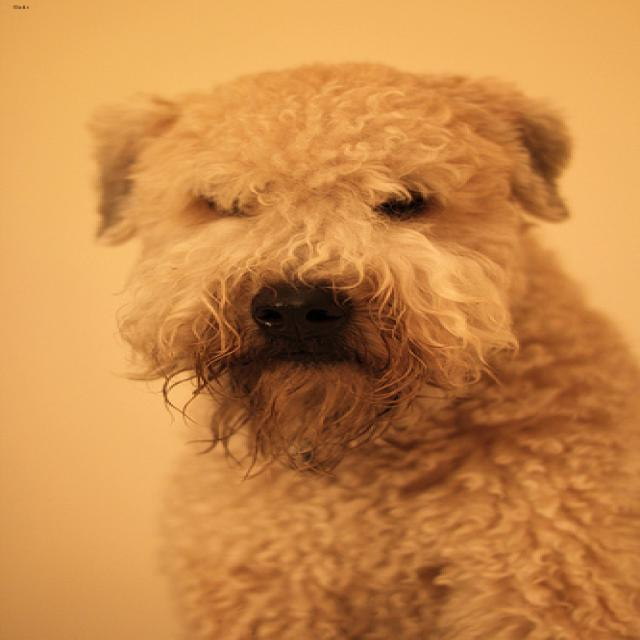dog-wheaten_terrier: (65, 55, 636, 637)
